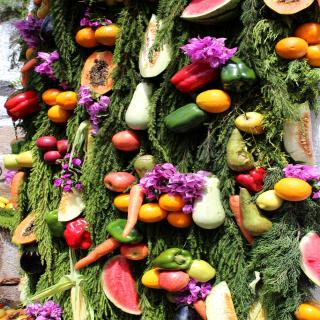Watermelon: (104, 256, 142, 318), (178, 0, 239, 24), (298, 231, 320, 289)
